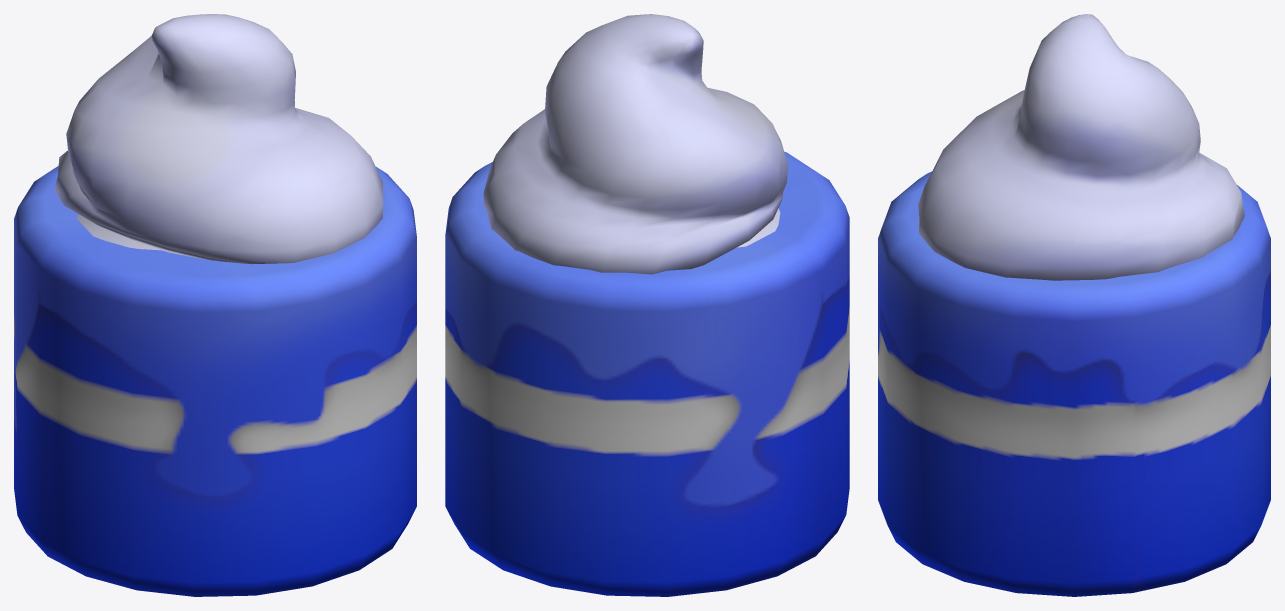
Rendered from model_Cake.fbx.
3 renders of one model, left to right at view 1: azimuth 30°, elevation 25°; view 2: azimuth 150°, elevation 25°; view 3: azimuth 270°, elevation 25°, orthographic. The views are drawn at different scales.
Parts seen in each view (by area): view 1: model_Cake; view 2: model_Cake; view 3: model_Cake.
Boxes of the visible parts, box(x1,y1,x2,y2) form: model_Cake: box(14, 14, 416, 596); model_Cake: box(445, 14, 849, 596); model_Cake: box(878, 14, 1270, 596).
Bounding box in the file's own units: 41.41 × 57.13 × 41.41.
